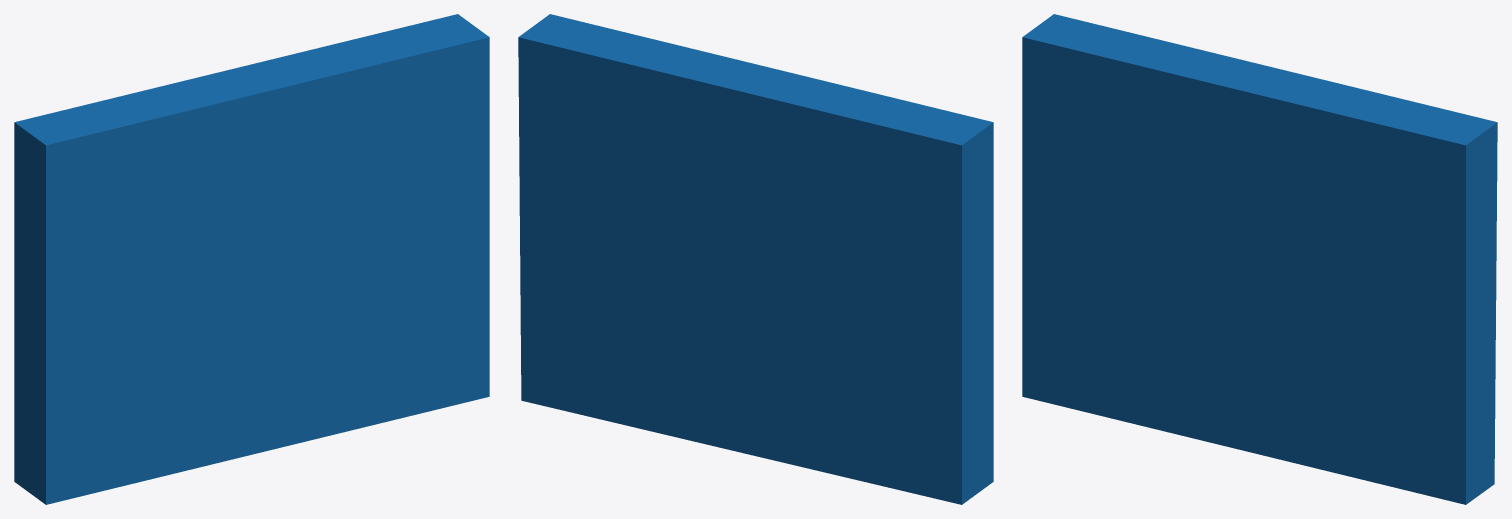
The model's file is Edge_Straight_02.fbx.
3 renders of one model, left to right at view 1: azimuth 30°, elevation 25°; view 2: azimuth 150°, elevation 25°; view 3: azimuth 330°, elevation 25°, orthographic.
Parts seen in each view (by area): view 1: Edge_Straight_02; view 2: Edge_Straight_02; view 3: Edge_Straight_02.
Part boxes in pixels (x1,y1,x2,y2): Edge_Straight_02: (14,14,489,504); Edge_Straight_02: (518,14,993,504); Edge_Straight_02: (1022,14,1497,504).
Size of the model in its own units: 3.66 by 2.86 by 0.4538.
